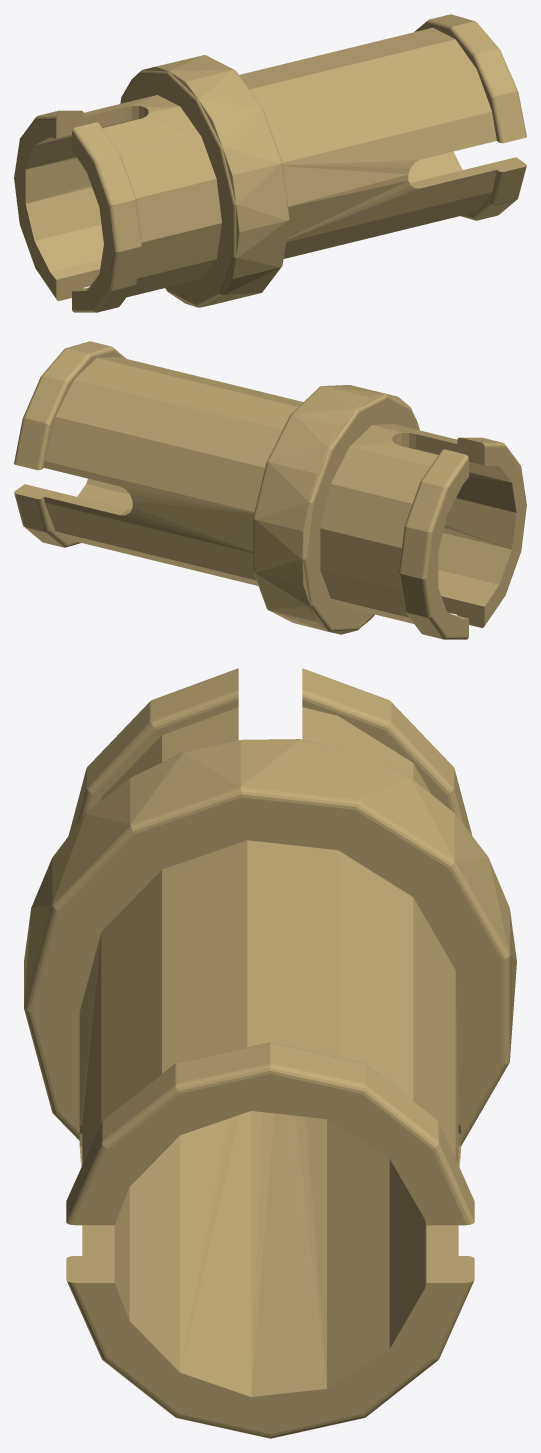
Rendered from Sand_6013938_MCM.fbx.
3 views of the same model, one above another, from view 1: azimuth 30°, elevation 25°; view 2: azimuth 150°, elevation 25°; view 3: azimuth 270°, elevation 25° (orthographic). The views are drawn at different scales.
Parts seen in each view (by area): view 1: Sand_6013938_MCM; view 2: Sand_6013938_MCM; view 3: Sand_6013938_MCM.
Part boxes in pixels (x1,y1,x2,y2): Sand_6013938_MCM: (14, 14, 526, 312); Sand_6013938_MCM: (14, 341, 526, 639); Sand_6013938_MCM: (24, 668, 516, 1438).
Size of the model in its own units: 1.2 by 0.6155 by 0.62.
